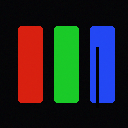4 line_v: (96, 47, 98, 107)
